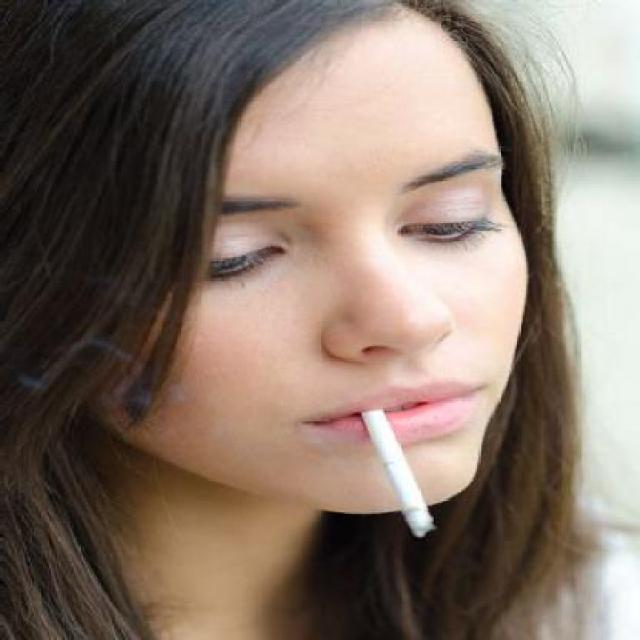cigarette: (356, 406, 449, 546)
